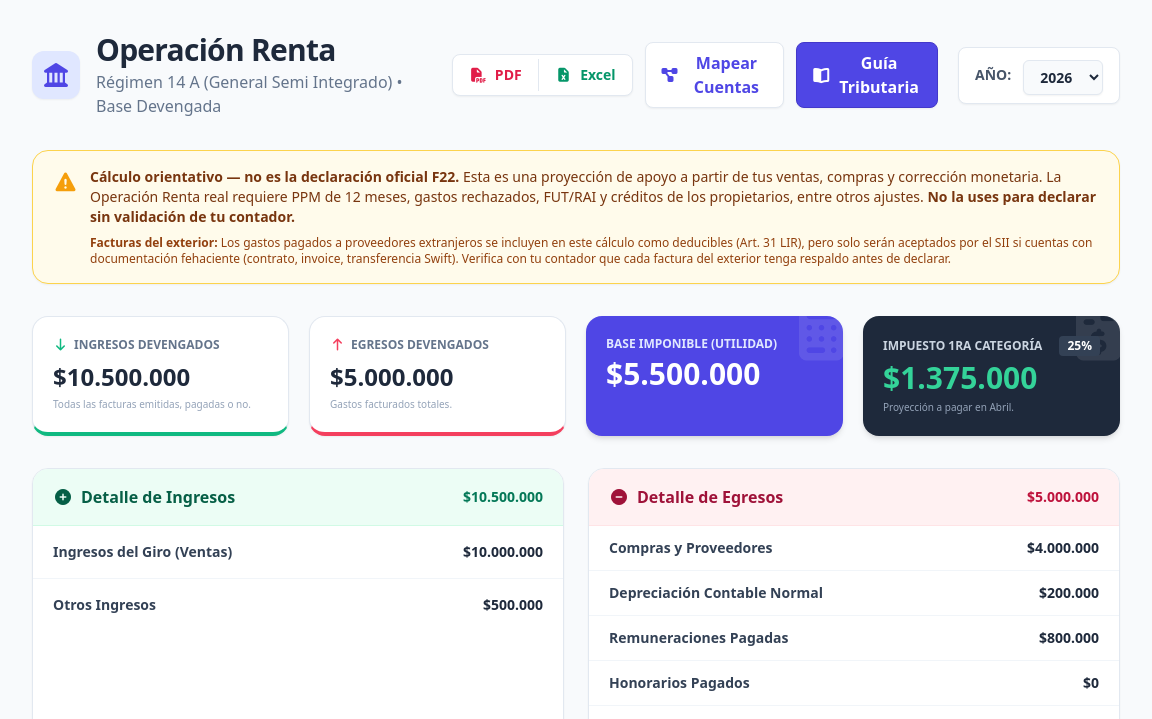
DashboardRenta › el botón "Guía Tributaria" abre el panel de información
The width and height of the screenshot is (1152, 719).
Expected: the heading "Operación Renta" is shown, [96,32,336,68]
What coordinates should you click on to do the following:
click the button "Guía Tributaria"
I would click on:
 (867, 75)
Its box is [796,42,938,108].
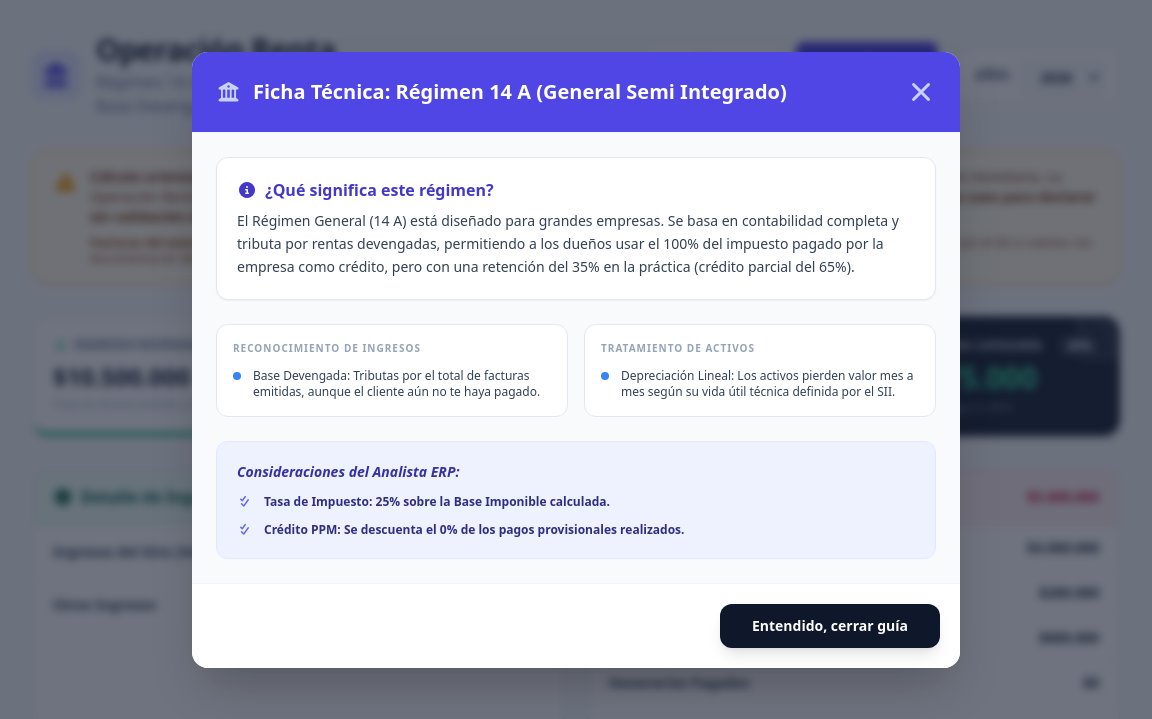
Expected: the heading "Ficha Técnica: Régimen 14 A (General Semi Integrado)" is shown, [216,78,787,106]
